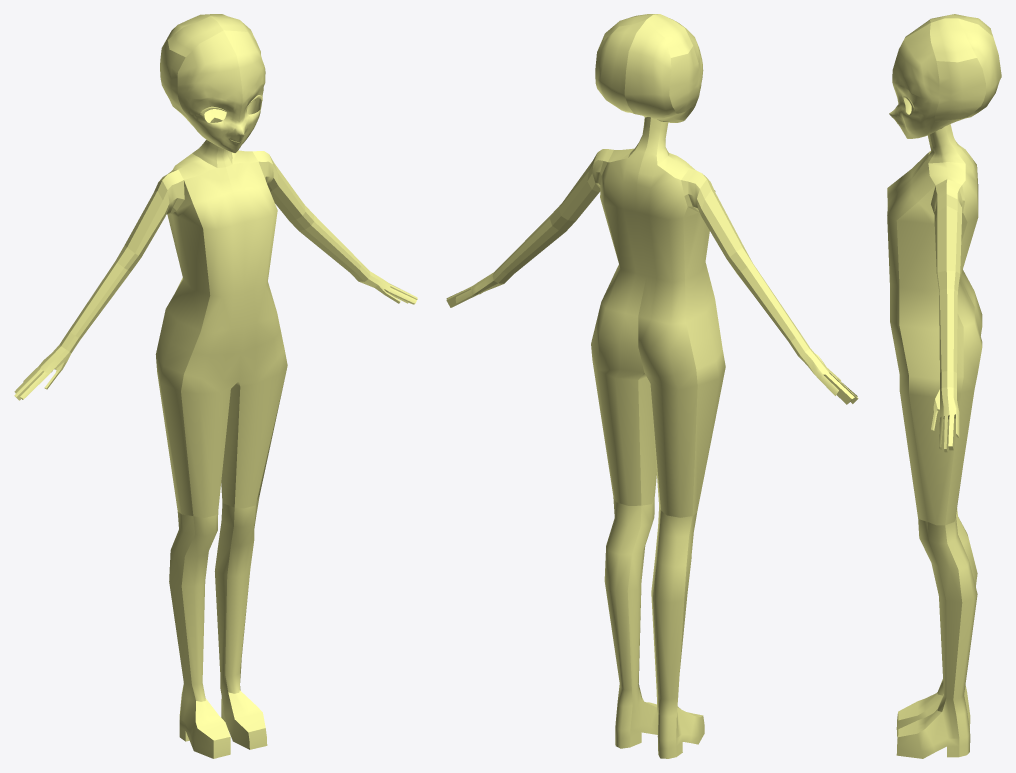
Rendered from Sotai.fbx.
3 views of the same model, side by side, from view 1: azimuth 30°, elevation 25°; view 2: azimuth 150°, elevation 25°; view 3: azimuth 270°, elevation 25° (orthographic). The views are drawn at different scales.
Visible parts, largest first — view 1: pCube9; view 2: pCube9; view 3: pCube9.
Boxes of the visible parts, x1,y1,x2,y2 form: pCube9: (14, 14, 417, 758); pCube9: (446, 14, 858, 758); pCube9: (887, 14, 1001, 758).
Size of the model in its own units: 94.17 by 159 by 22.88.
